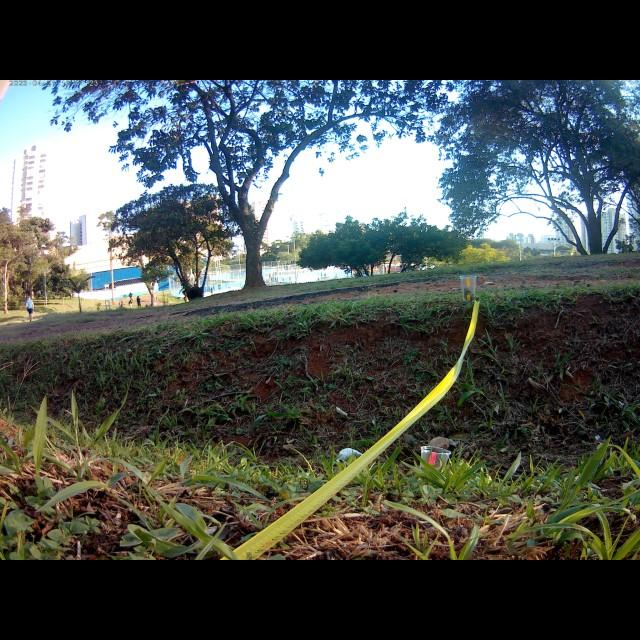ravina: (5, 324, 640, 459)
